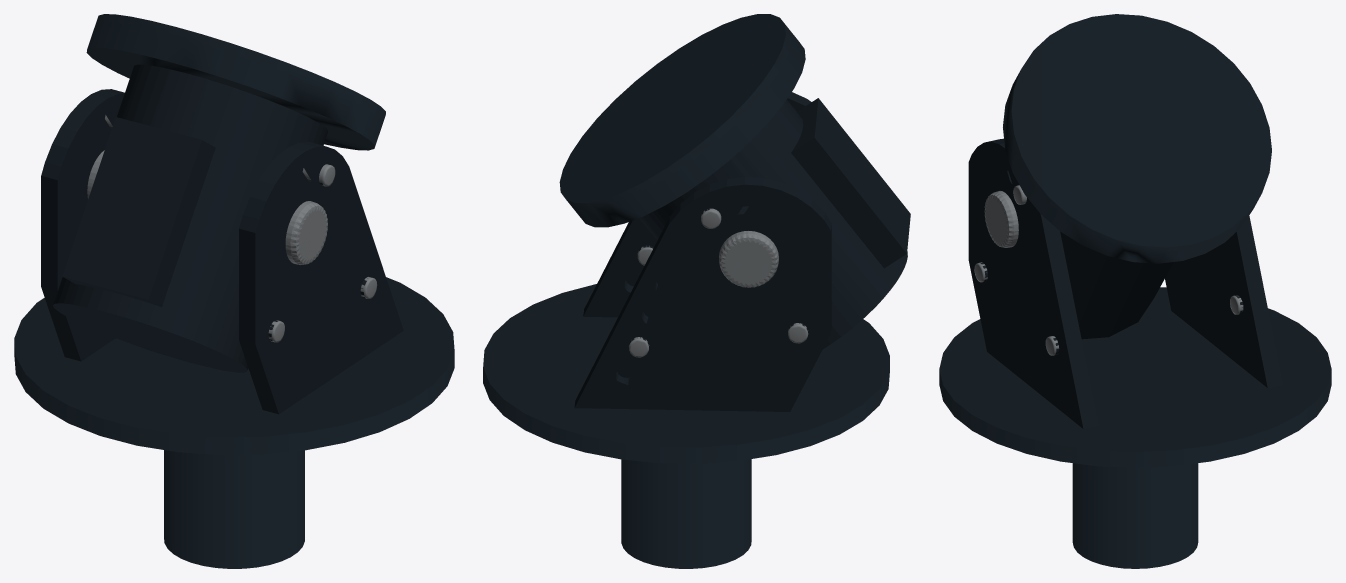
Rendered from telescope_2_turnta_base.fbx.
3 renders of one model, left to right at view 1: azimuth 30°, elevation 25°; view 2: azimuth 150°, elevation 25°; view 3: azimuth 270°, elevation 25°, orthographic. The views are drawn at different scales.
Visible parts, largest first — view 1: 2_turntable_base; view 2: 2_turntable_base; view 3: 2_turntable_base.
Boxes of the visible parts, x1,y1,x2,y2 form: 2_turntable_base: (14,14,454,568); 2_turntable_base: (483,14,910,568); 2_turntable_base: (939,14,1331,568).
Size of the model in its own units: 44.04 by 58.45 by 42.45.
